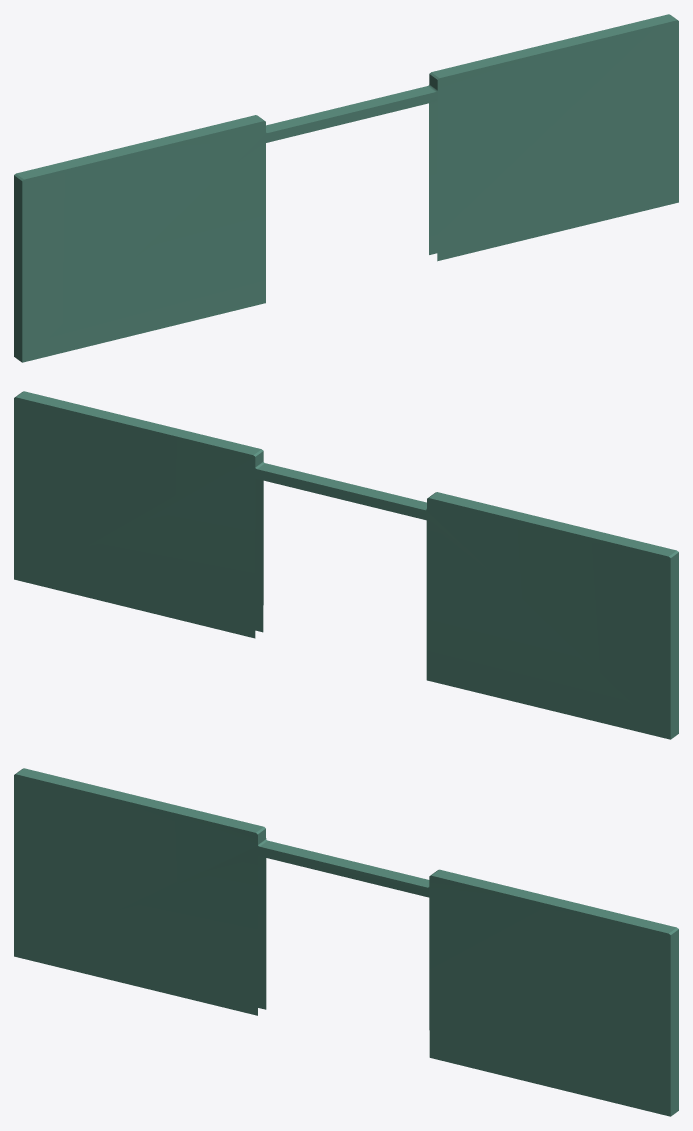
The model's file is gate fence.fbx.
3 views of the same model, one above another, from view 1: azimuth 30°, elevation 25°; view 2: azimuth 150°, elevation 25°; view 3: azimuth 330°, elevation 25° (orthographic).
Visible parts, largest first — view 1: Object030; view 2: Object030; view 3: Object030.
Part boxes in pixels (x1,y1,x2,y2): Object030: [14, 14, 678, 362]; Object030: [14, 391, 678, 739]; Object030: [14, 768, 678, 1116].
Bounding box in the file's own units: 4176 × 1110 × 93.2.
